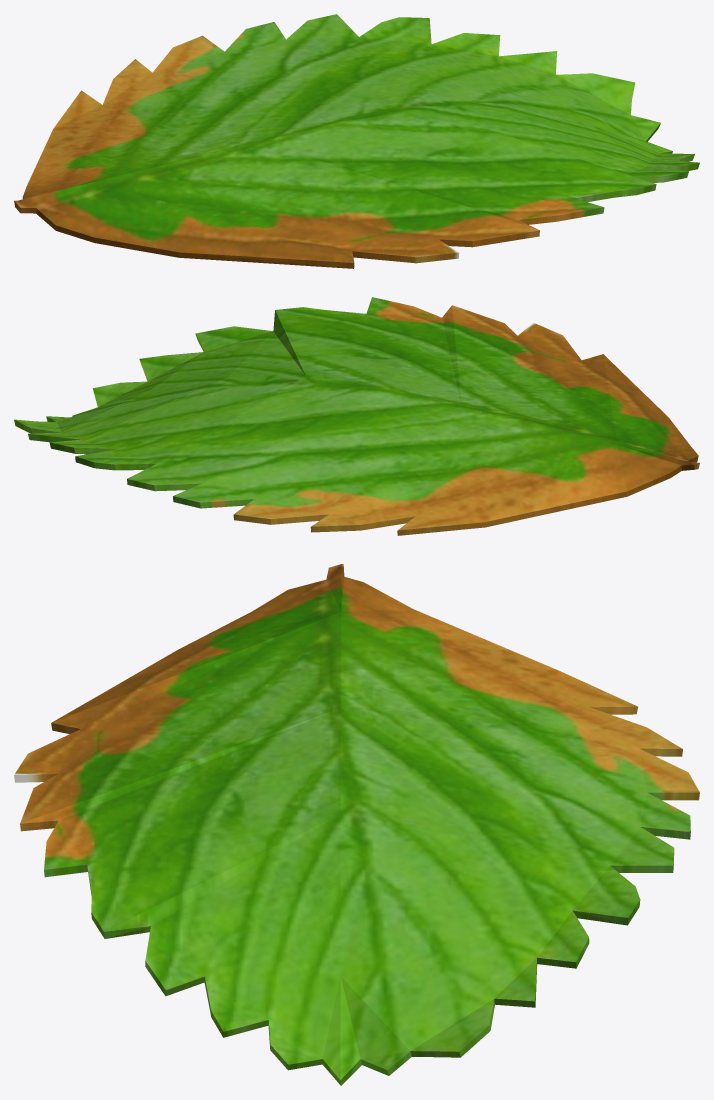
Rendered from leaf4_s1.dae.
3 renders of one model, top to bottom at view 1: azimuth 30°, elevation 25°; view 2: azimuth 150°, elevation 25°; view 3: azimuth 270°, elevation 25°, orthographic. The views are drawn at different scales.
Visible parts, largest first — view 1: Plane; view 2: Plane; view 3: Plane.
Boxes of the visible parts, bbox=[...] form: Plane: bbox=[14, 14, 699, 268]; Plane: bbox=[14, 297, 699, 535]; Plane: bbox=[14, 564, 699, 1085].
Size of the model in its own units: 0.1374 by 0.1018 by 0.0227.
1 material, 1 textured.
